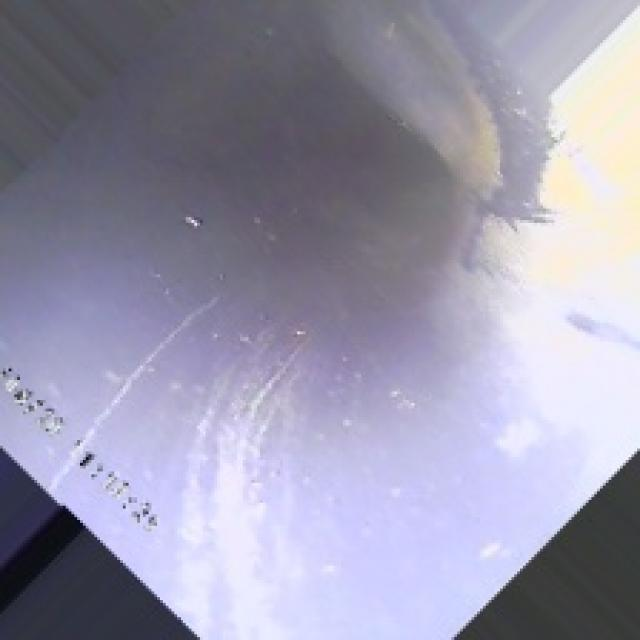shape_deformation: (80, 3, 580, 426)
